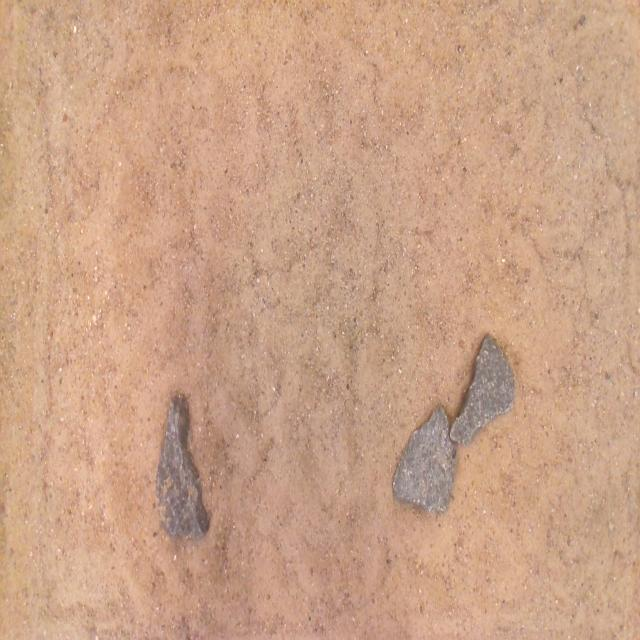rock: (156, 395, 209, 539), (450, 335, 514, 444), (392, 407, 456, 511)
